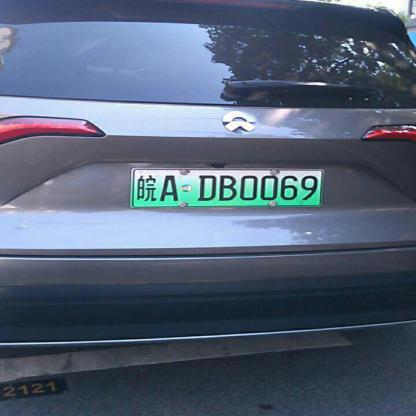lp: (132, 170, 321, 205)
